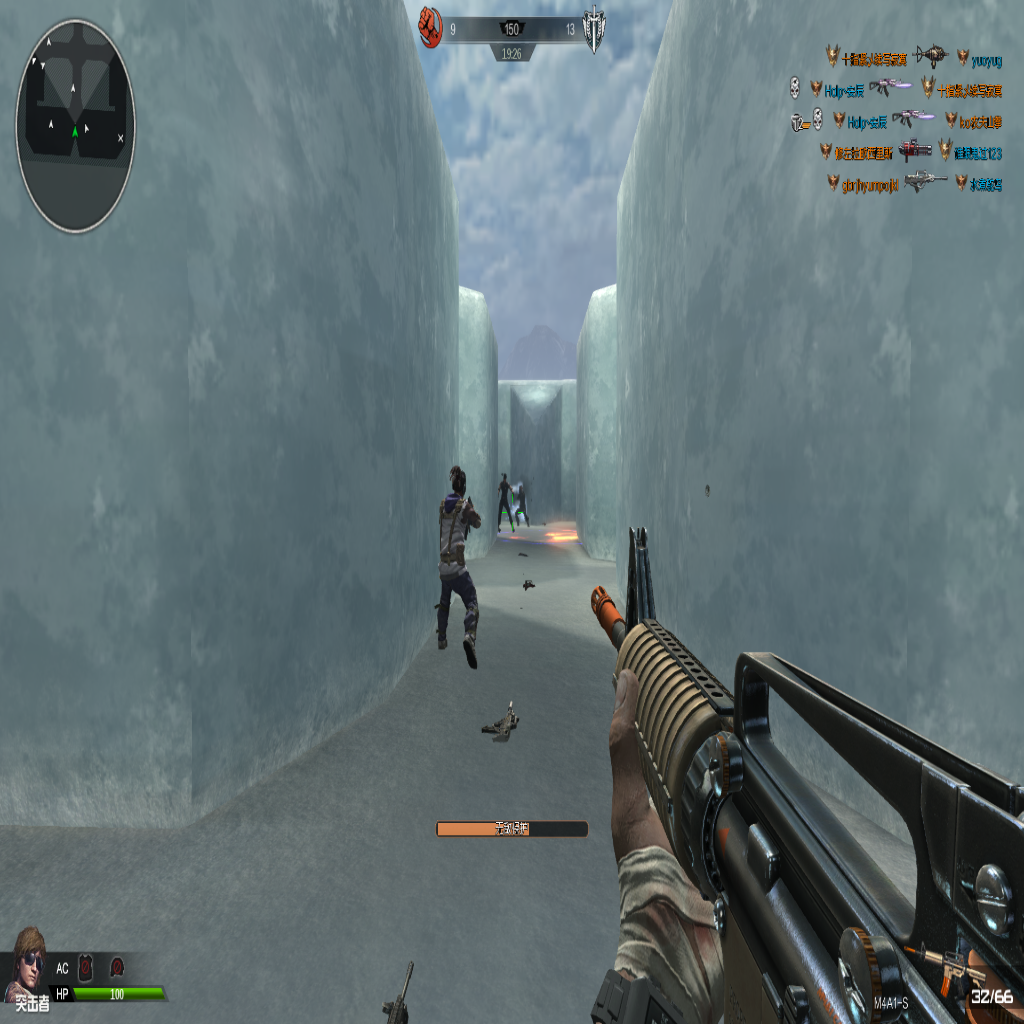ct: (494, 471, 517, 532), (513, 479, 531, 527)
tt: (434, 461, 484, 664)
